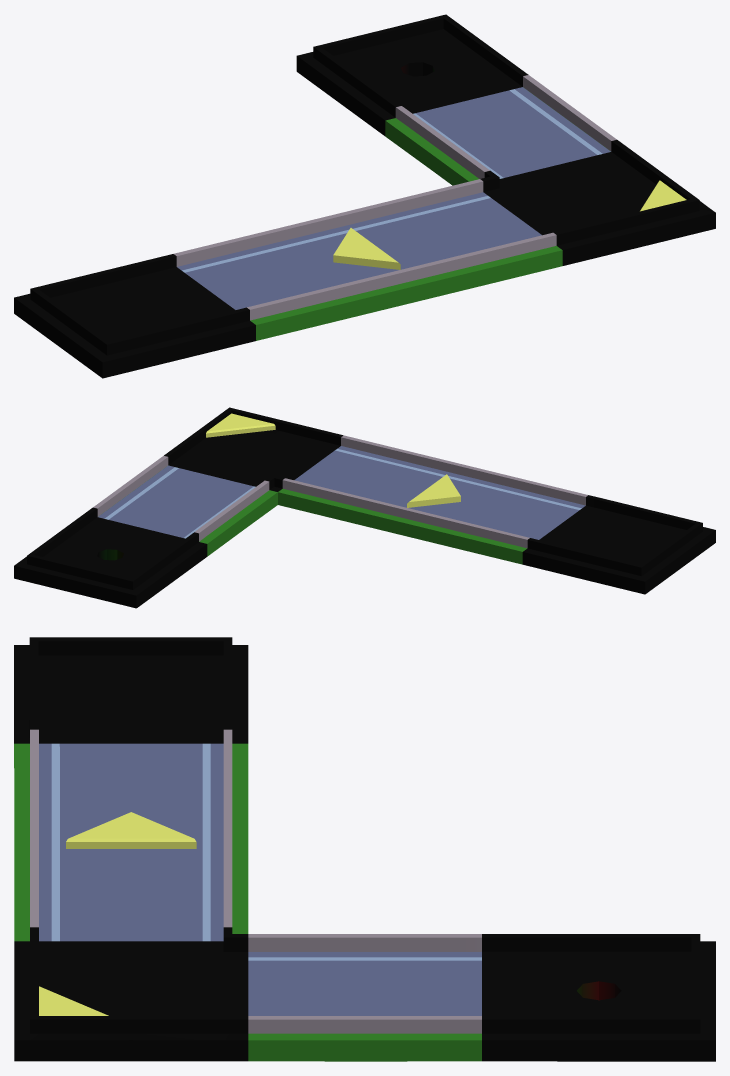
File: Pista4Facil.fbx
3 renders of one model, top to bottom at view 1: azimuth 30°, elevation 25°; view 2: azimuth 150°, elevation 25°; view 3: azimuth 270°, elevation 25°, orthographic. The views are drawn at different scales.
Parts seen in each view (by area): view 1: Box024.001, Box024.002, Object001.002, Object001.001; view 2: Box024.001, Box024.002, Object001.001, Object001.002; view 3: Box024.001, Box024.002, Object001.002, Object001.001.
Part boxes in pixels (bbox=[...]): Box024.001: bbox=[14, 29, 715, 378]; Box024.002: bbox=[30, 14, 699, 355]; Object001.002: bbox=[333, 228, 400, 269]; Object001.001: bbox=[639, 180, 686, 211]; Box024.001: bbox=[14, 430, 715, 608]; Box024.002: bbox=[27, 407, 702, 589]; Object001.001: bbox=[206, 413, 275, 437]; Object001.002: bbox=[407, 474, 460, 507]; Box024.001: bbox=[14, 645, 715, 1061]; Box024.002: bbox=[29, 637, 700, 1033]; Object001.002: bbox=[66, 812, 196, 848]; Object001.001: bbox=[39, 986, 108, 1015].
Bounding box in the file's own units: 202 × 8.42 × 151.
